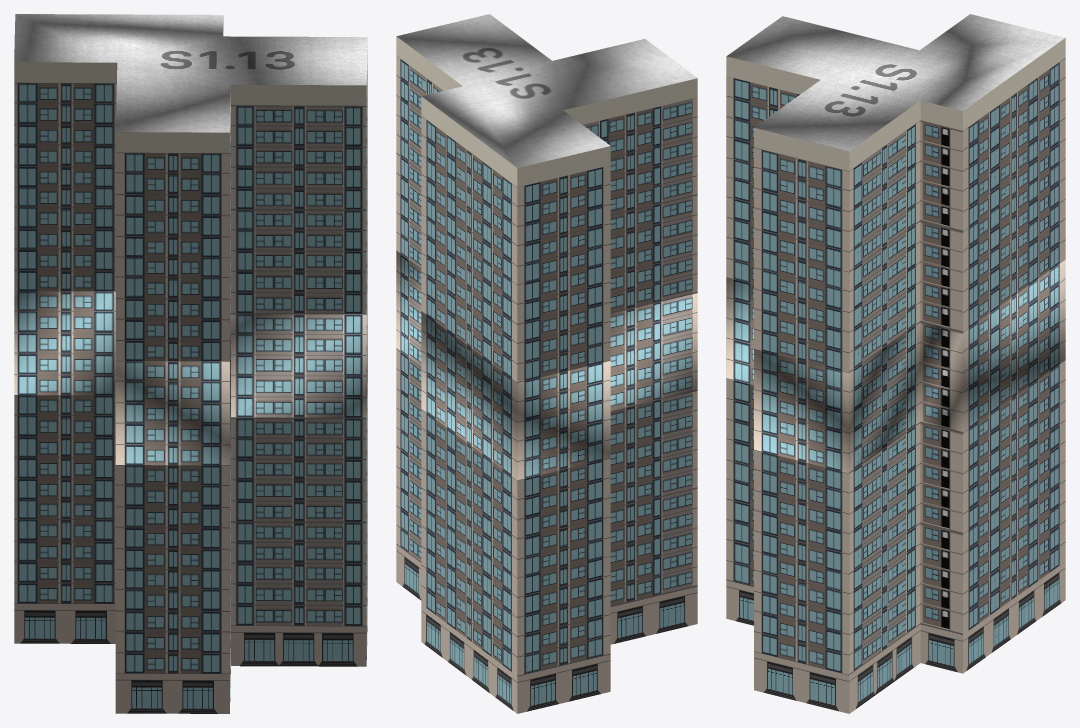
3 views of the same model, side by side, from view 1: azimuth 30°, elevation 25°; view 2: azimuth 150°, elevation 25°; view 3: azimuth 270°, elevation 25° (orthographic). The views are drawn at different scales.
Parts seen in each view (by area): view 1: Asset3DLoader.sceneRoot; view 2: Asset3DLoader.sceneRoot; view 3: Asset3DLoader.sceneRoot.
Part boxes in pixels (x1,y1,x2,y2): Asset3DLoader.sceneRoot: [14, 14, 367, 713]; Asset3DLoader.sceneRoot: [396, 14, 697, 713]; Asset3DLoader.sceneRoot: [726, 14, 1065, 713].
Bounding box in the file's own units: 50.03 × 95.5 × 52.17.
1 material, 1 textured.
